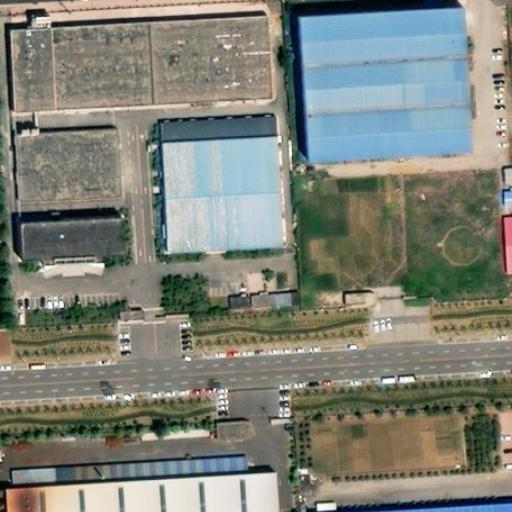building: (3, 447, 278, 512), (55, 40, 272, 121), (166, 154, 285, 267), (307, 133, 479, 190), (305, 84, 477, 140), (303, 37, 475, 91), (10, 121, 120, 201), (28, 241, 126, 293), (14, 49, 58, 123), (136, 421, 210, 440), (247, 287, 297, 308), (210, 415, 250, 438), (498, 213, 512, 271), (339, 286, 373, 303), (224, 289, 249, 308), (312, 497, 336, 512), (498, 185, 512, 205), (498, 162, 512, 182)
